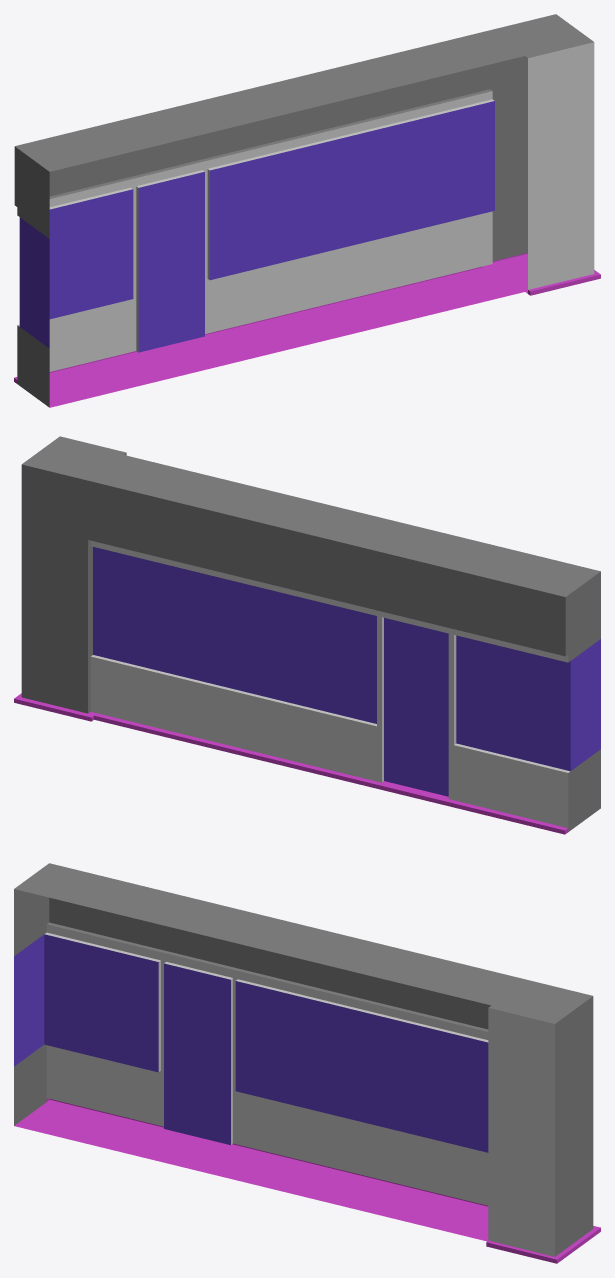
The model's file is CommerceFacadeA.fbx.
3 views of the same model, one above another, from view 1: azimuth 30°, elevation 25°; view 2: azimuth 150°, elevation 25°; view 3: azimuth 330°, elevation 25° (orthographic).
Parts seen in each view (by area): view 1: Cube; view 2: Cube; view 3: Cube.
Part boxes in pixels (bbox=[...]): Cube: bbox=[14, 14, 600, 407]; Cube: bbox=[14, 436, 600, 834]; Cube: bbox=[14, 863, 600, 1263].
Bounding box in the file's own units: 969 × 400 × 134.
